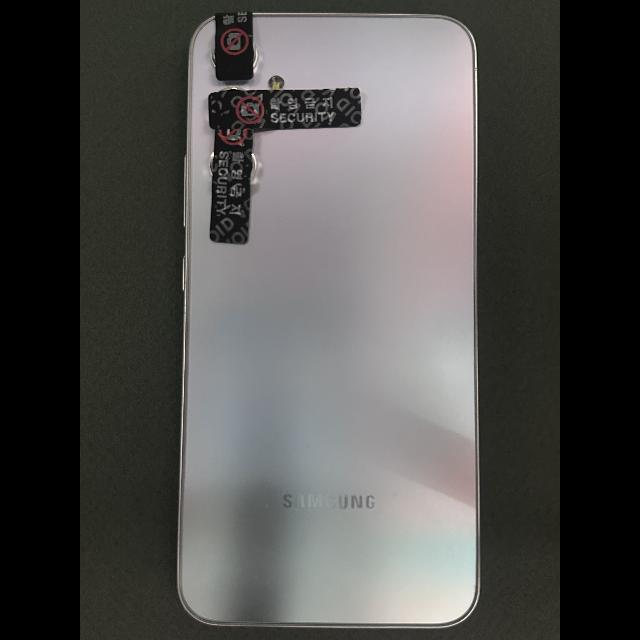lens: (250, 152, 257, 182), (218, 87, 246, 92), (211, 43, 216, 67)
phone: (176, 12, 481, 629)
sticker: (209, 88, 361, 130), (209, 129, 253, 245), (215, 11, 253, 80)
